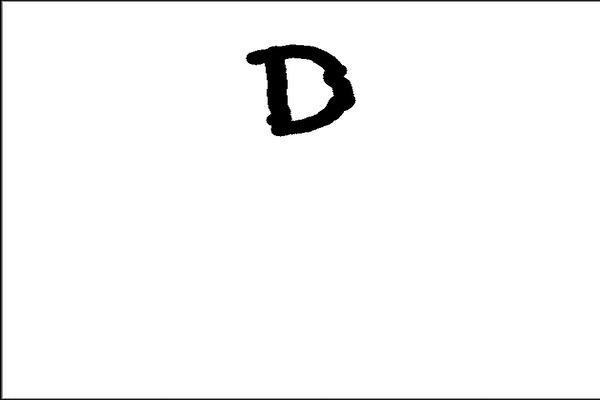D: (242, 37, 359, 139)
